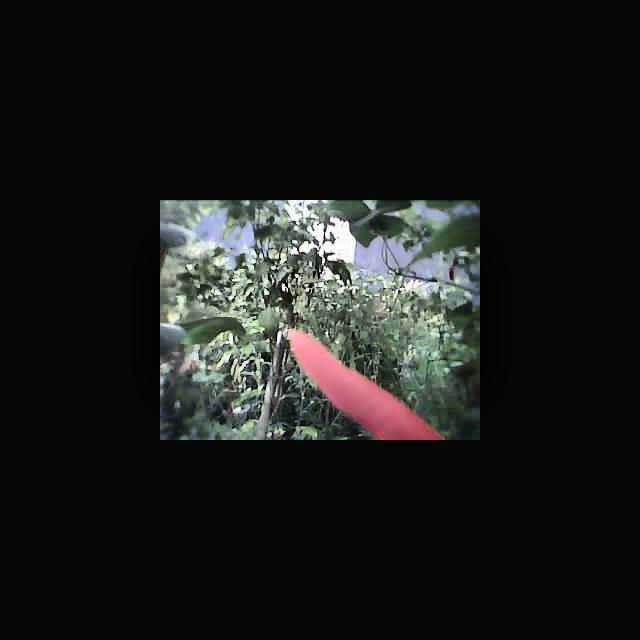Cabai: (287, 335, 440, 440)
